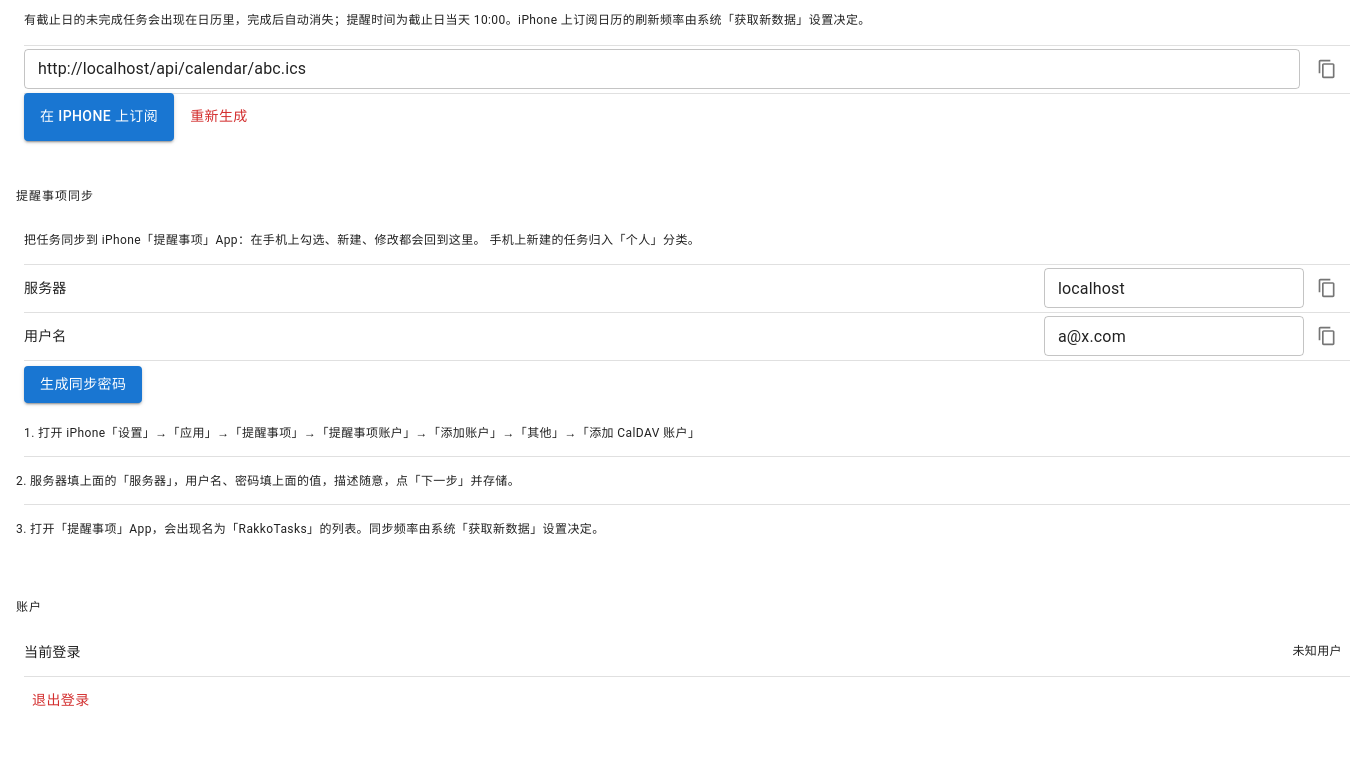
Test: SettingsPage 提醒事项同步 › 点击生成只发一次 POST，随后出现 32 位同步密码与「只显示一次」告警
The width and height of the screenshot is (1366, 757).
(page scrolled)
Step 1. Click the button "生成同步密码" → (83, 384), box top-left (24, 366), bottom-right (142, 403)
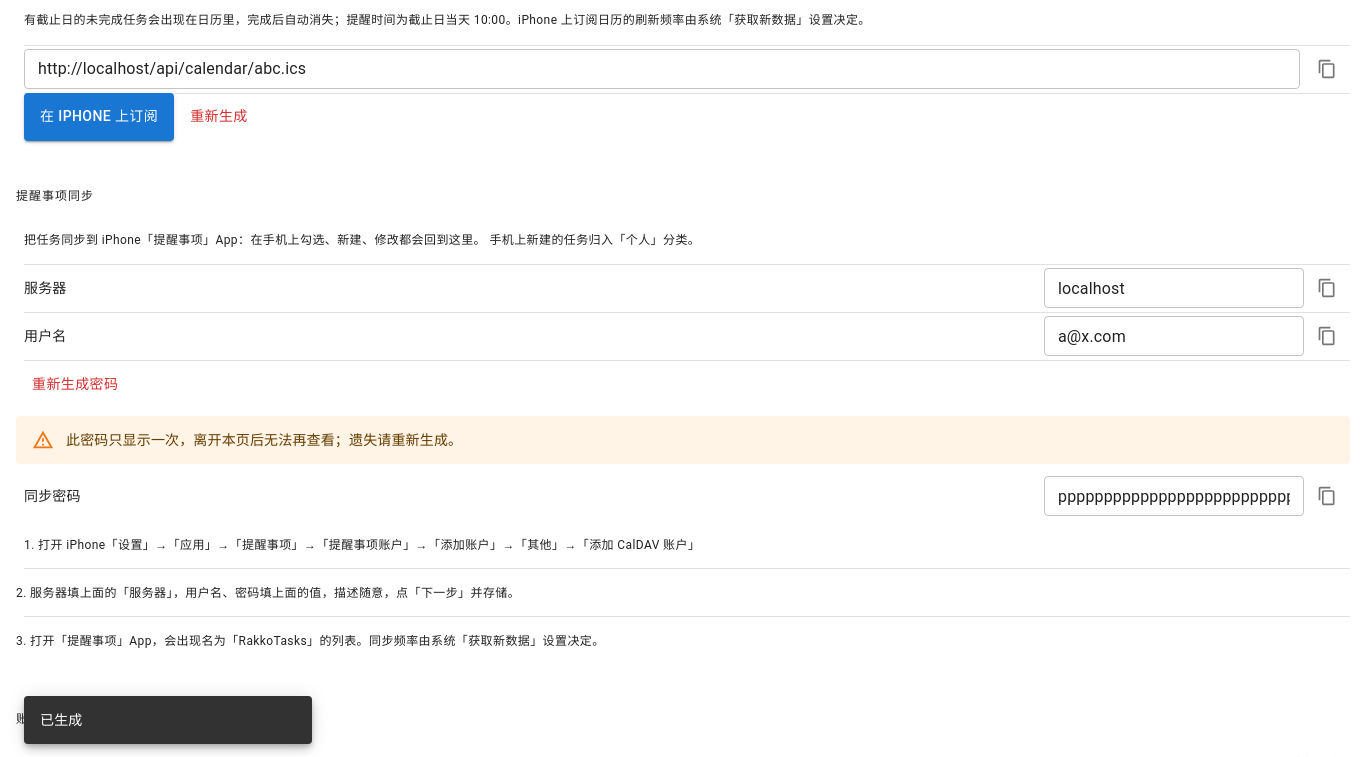
Expected: the text "此密码只显示一次，离开本页后无法再查看；遗失请重新生成。" is shown, top-left (66, 432), bottom-right (462, 448)
Expected: the text "已生成" is shown, top-left (40, 712), bottom-right (82, 728)
Expected: the button "生成同步密码" is gone
